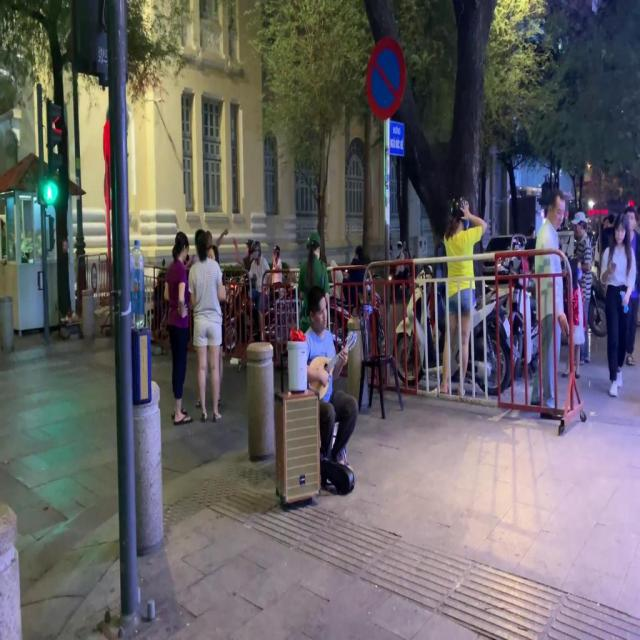cam_do_xe: (366, 38, 406, 118)
